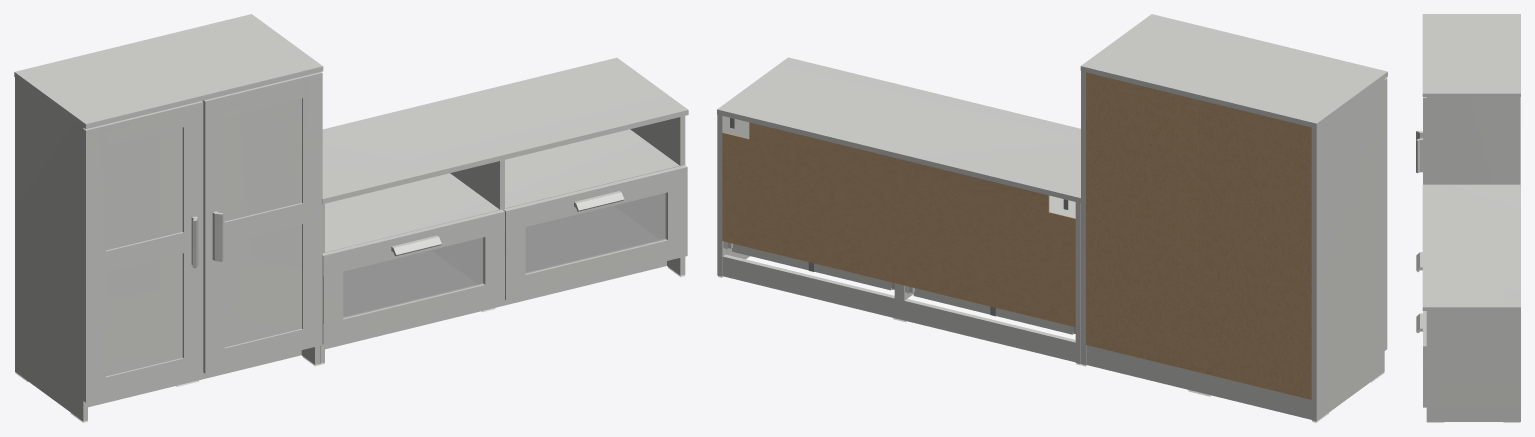
The model's file is brimnes_szafka_pod_tv_59184337.glb.
The picture shows the model from 3 angles, left to right: view 1: azimuth 30°, elevation 25°; view 2: azimuth 150°, elevation 25°; view 3: azimuth 270°, elevation 25°; orthographic projection. The views are drawn at different scales.
Visible parts, largest first — view 1: brimnes_szafka_pod_tv_59184337; view 2: brimnes_szafka_pod_tv_59184337; view 3: brimnes_szafka_pod_tv_59184337.
Boxes of the visible parts, x1,y1,x2,y2 form: brimnes_szafka_pod_tv_59184337: [14, 14, 688, 422]; brimnes_szafka_pod_tv_59184337: [717, 14, 1387, 422]; brimnes_szafka_pod_tv_59184337: [1416, 14, 1520, 422].
Bounding box in the file's own units: 2 × 0.955 × 0.4384.
Materials: 7 (3 with a texture image).
